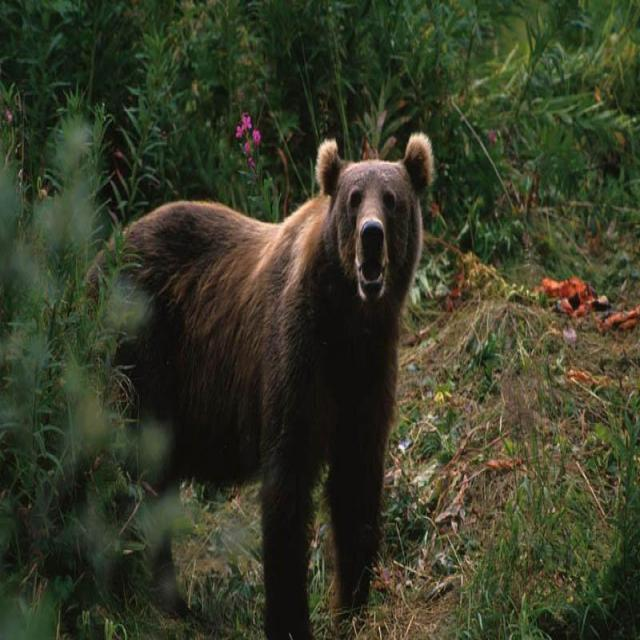Bear: (124, 134, 436, 640)
